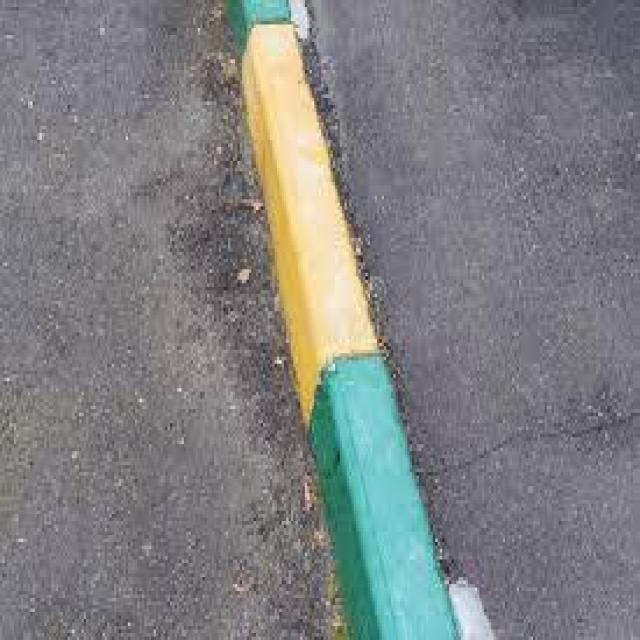curb: (226, 3, 458, 640)
